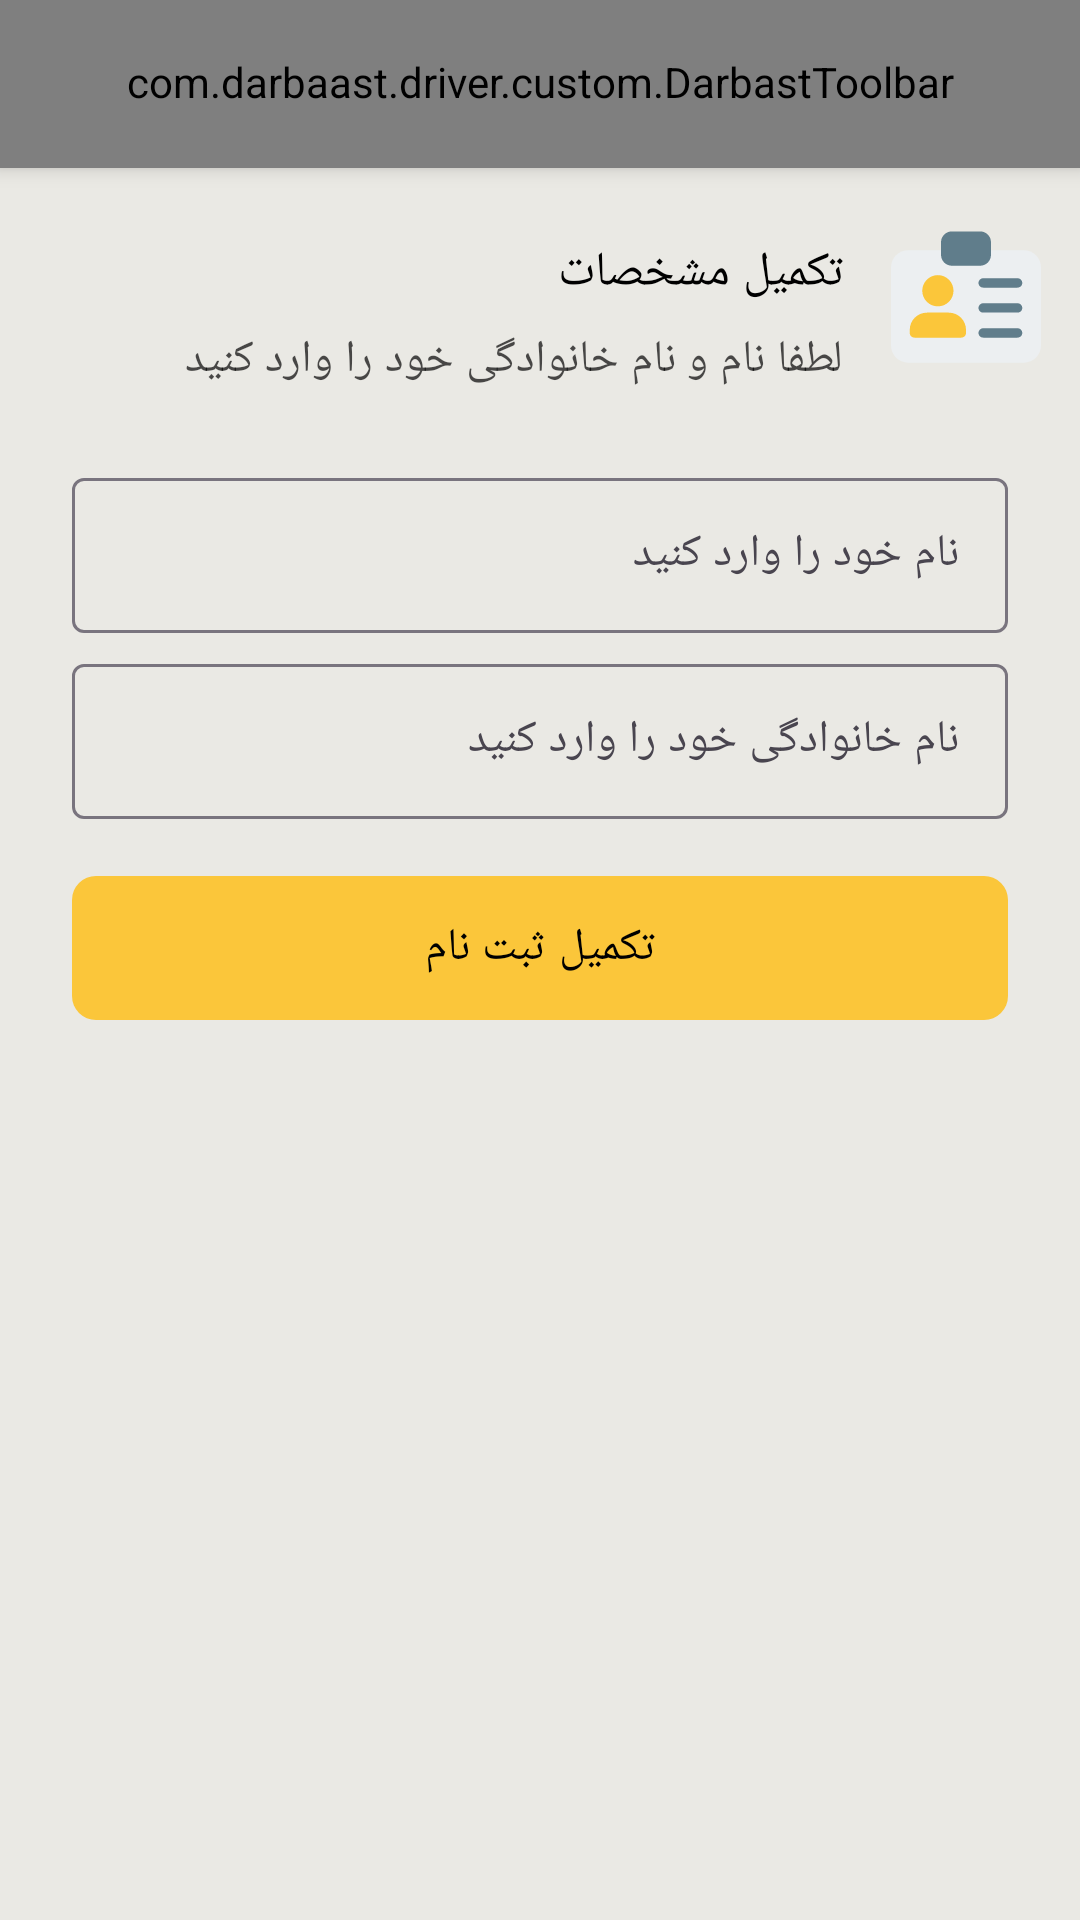

Where to tap for icons on this 1080px x 1920px app screen, as (x,y):
id card: (966,297)
